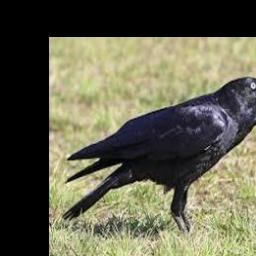Crow: (63, 76, 256, 236)
